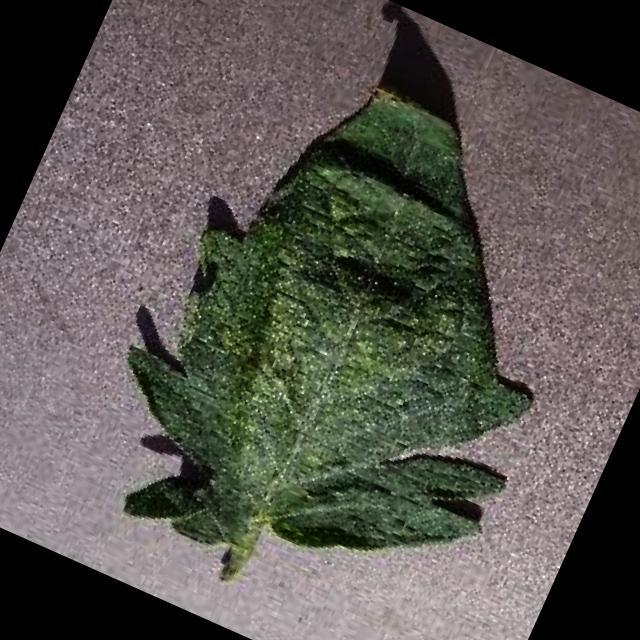Tomato spider mites leaf: (69, 34, 634, 640)
